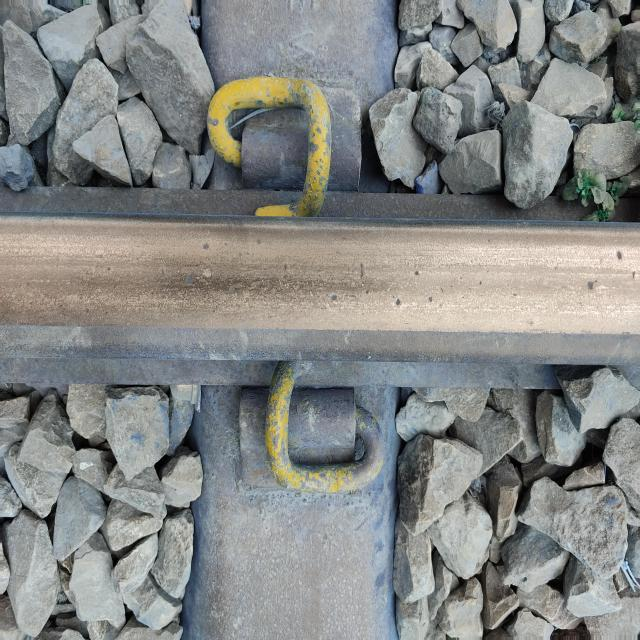Good Fasteners: (207, 77, 361, 217), (239, 361, 382, 493)
